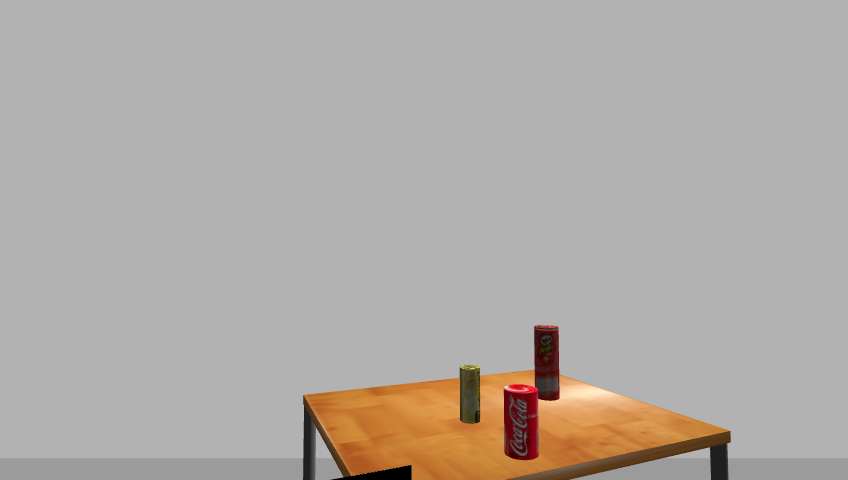aruco marker: (312, 465, 418, 480)
biscuits pack: (458, 365, 482, 425)
coke can: (502, 384, 540, 460)
dinner table: (292, 374, 738, 480)
pringles can: (532, 324, 562, 403)
